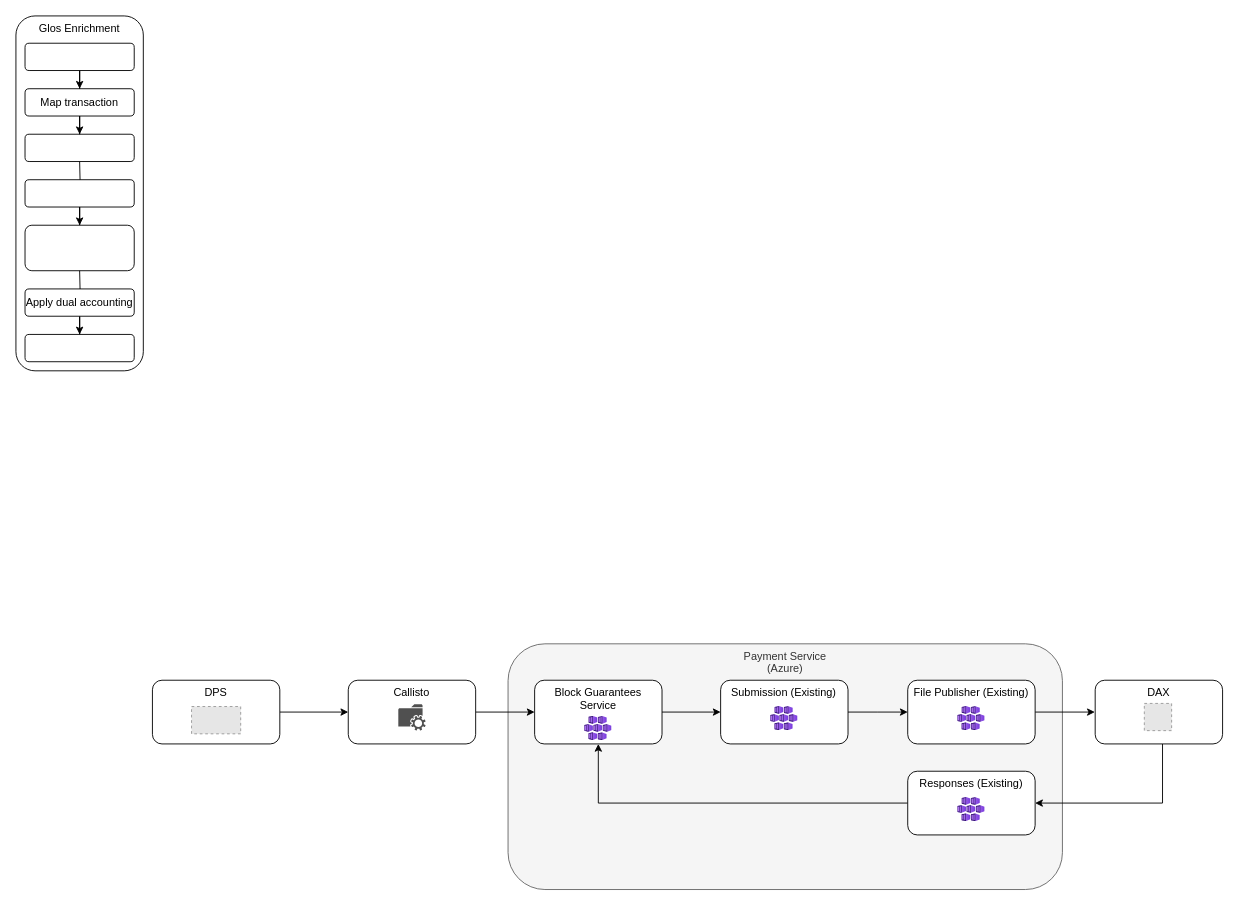
Image size: 1239x905. Some labels were removed from this diagram. Grey dashed boxes stand in for pictures. The shapes that lost their labels are listed below. From the top down, each one's centre as x and y in pixels, then its label:
(x=79, y=56): Map agreement
(x=79, y=147): Map FRN
(x=79, y=193): Map dates
(x=79, y=247): Map fund, account, scheme, year delivery body
(x=79, y=348): Validate co-financing rate
